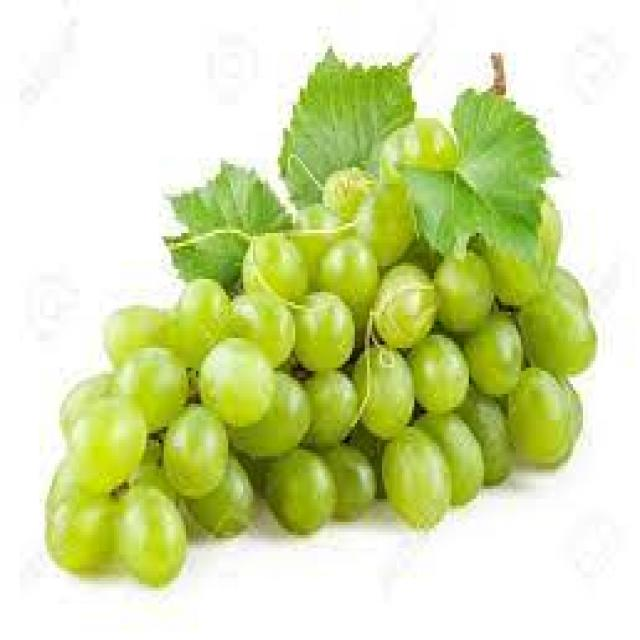grape: (40, 46, 602, 587)
